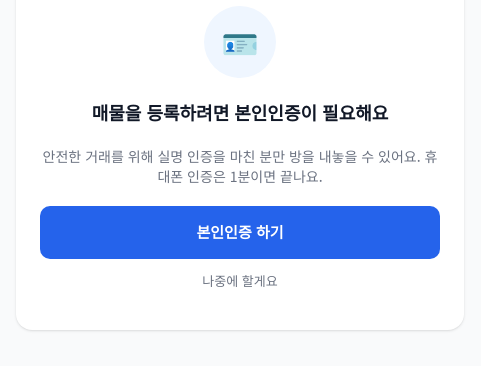
Test: IdentityGate › keeps the gate and says why when the verification fails
Click the button "본인인증 하기".
click(240, 232)  # box 40,206 -> 440,258
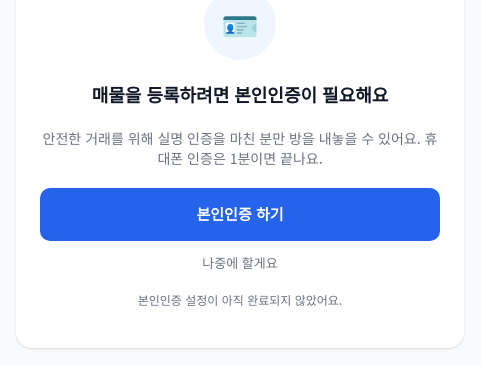
Expected: the text "본인인증 설정이 아직 완료되지 않았어요." is shown, 138,292 -> 342,308
